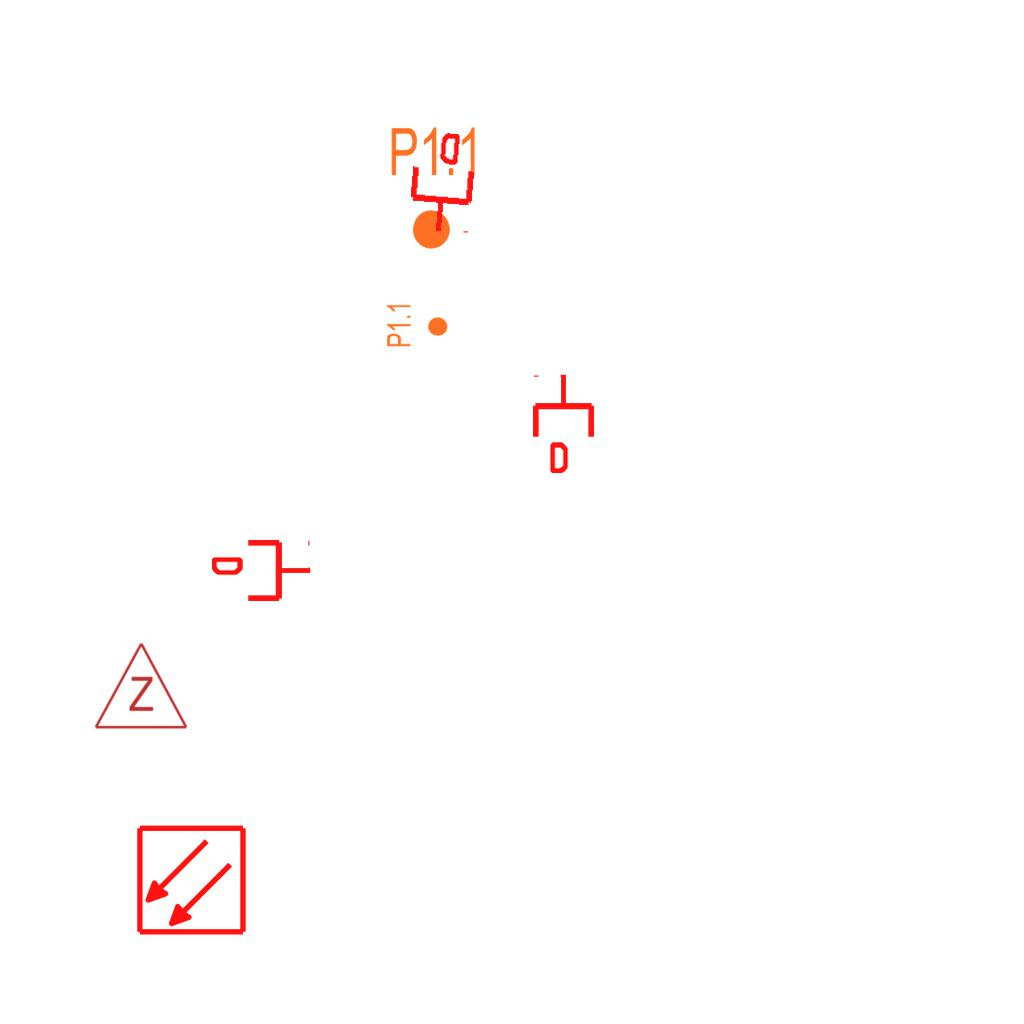Datenanschluss_einfach: (403, 130, 482, 236), (212, 536, 312, 605), (529, 373, 598, 473)
Downlight_LED_Einbauleuchten_Flur: (388, 124, 481, 252), (385, 302, 449, 348)
RMO_Rauchmelder_optischer: (135, 824, 248, 937)
Zimmersignalleuchte: (91, 636, 189, 736)
